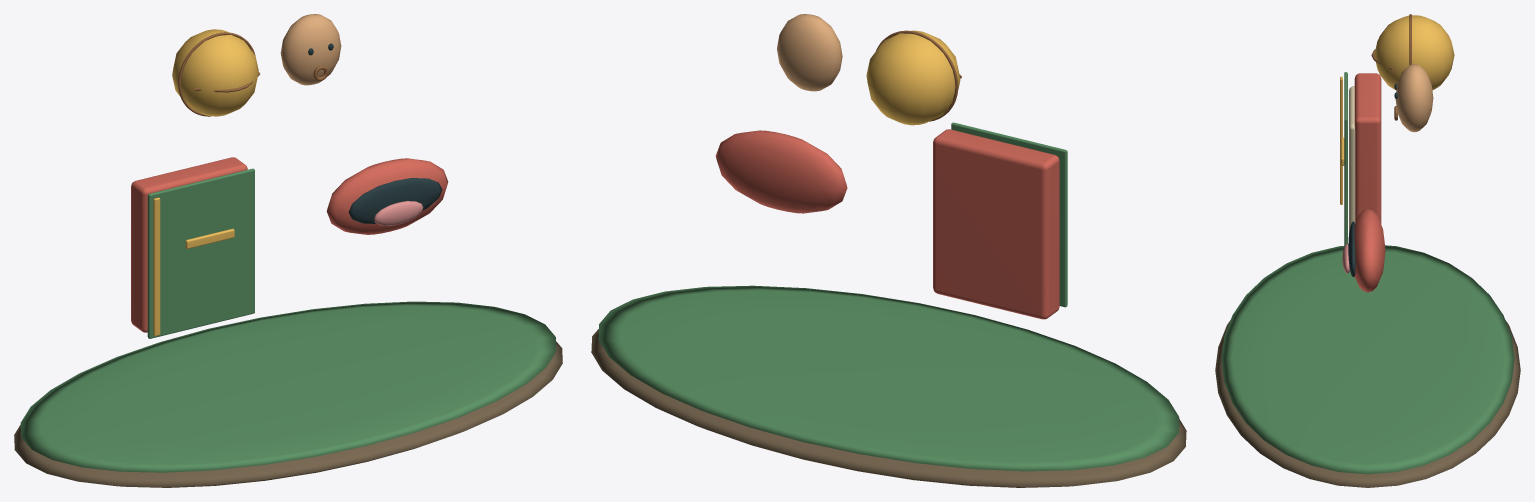
The model's file is complete-third-quiet-silent-humor.glb.
3 views of the same model, side by side, from view 1: azimuth 30°, elevation 25°; view 2: azimuth 150°, elevation 25°; view 3: azimuth 270°, elevation 25° (orthographic). The views are drawn at different scales.
Visible parts, largest first — view 1: complete-third-quiet-silent-humor_surface_01, complete-third-quiet-silent-humor_surface_00, complete-third-quiet-silent-humor_surface_02, complete-third-quiet-silent-humor_surface_04, complete-third-quiet-silent-humor_surface_08, complete-third-quiet-silent-humor_surface_05, complete-third-quiet-silent-humor_surface_06, complete-third-quiet-silent-humor_surface_07; view 2: complete-third-quiet-silent-humor_surface_01, complete-third-quiet-silent-humor_surface_02, complete-third-quiet-silent-humor_surface_00, complete-third-quiet-silent-humor_surface_04, complete-third-quiet-silent-humor_surface_08; view 3: complete-third-quiet-silent-humor_surface_01, complete-third-quiet-silent-humor_surface_02, complete-third-quiet-silent-humor_surface_00, complete-third-quiet-silent-humor_surface_04, complete-third-quiet-silent-humor_surface_08, complete-third-quiet-silent-humor_surface_03, complete-third-quiet-silent-humor_surface_05.
Part boxes in pixels (box(x1,y1,x2,y2)): complete-third-quiet-silent-humor_surface_01: box(20, 168, 556, 472); complete-third-quiet-silent-humor_surface_00: box(14, 341, 562, 487); complete-third-quiet-silent-humor_surface_02: box(131, 157, 448, 332); complete-third-quiet-silent-humor_surface_04: box(153, 29, 258, 336); complete-third-quiet-silent-humor_surface_08: box(280, 14, 341, 85); complete-third-quiet-silent-humor_surface_05: box(308, 43, 442, 223); complete-third-quiet-silent-humor_surface_06: box(374, 201, 423, 225); complete-third-quiet-silent-humor_surface_07: box(178, 32, 328, 116); complete-third-quiet-silent-humor_surface_01: box(598, 122, 1179, 471); complete-third-quiet-silent-humor_surface_02: box(715, 129, 1059, 319); complete-third-quiet-silent-humor_surface_00: box(591, 329, 1186, 487); complete-third-quiet-silent-humor_surface_04: box(866, 30, 960, 125); complete-third-quiet-silent-humor_surface_08: box(777, 14, 842, 91); complete-third-quiet-silent-humor_surface_01: box(1221, 72, 1514, 474); complete-third-quiet-silent-humor_surface_02: box(1354, 73, 1385, 292); complete-third-quiet-silent-humor_surface_00: box(1215, 320, 1520, 487); complete-third-quiet-silent-humor_surface_04: box(1340, 15, 1454, 204); complete-third-quiet-silent-humor_surface_08: box(1395, 64, 1433, 132); complete-third-quiet-silent-humor_surface_03: box(1349, 86, 1355, 233); complete-third-quiet-silent-humor_surface_05: box(1348, 83, 1397, 277).
Bounding box in the file's own units: 4.56 × 3.12 × 2.5.
